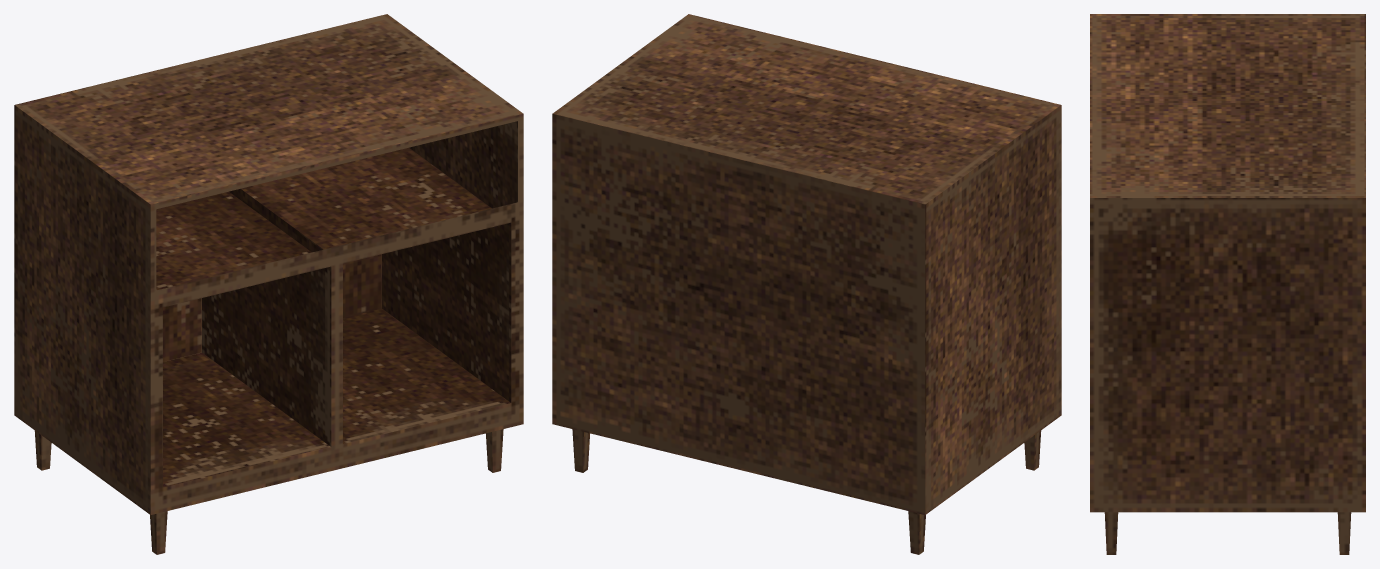
The model's file is TvStand_Cabinet.fbx.
3 views of the same model, side by side, from view 1: azimuth 30°, elevation 25°; view 2: azimuth 150°, elevation 25°; view 3: azimuth 270°, elevation 25° (orthographic).
Visible parts, largest first — view 1: TvStandBase; view 2: TvStandBase; view 3: TvStandBase.
Boxes of the visible parts, x1=… form: TvStandBase: x1=14, y1=14, x2=523, y2=554; TvStandBase: x1=552, y1=14, x2=1061, y2=554; TvStandBase: x1=1090, y1=14, x2=1365, y2=554.
Size of the model in its own units: 44.96 by 71.05 by 65.51.
